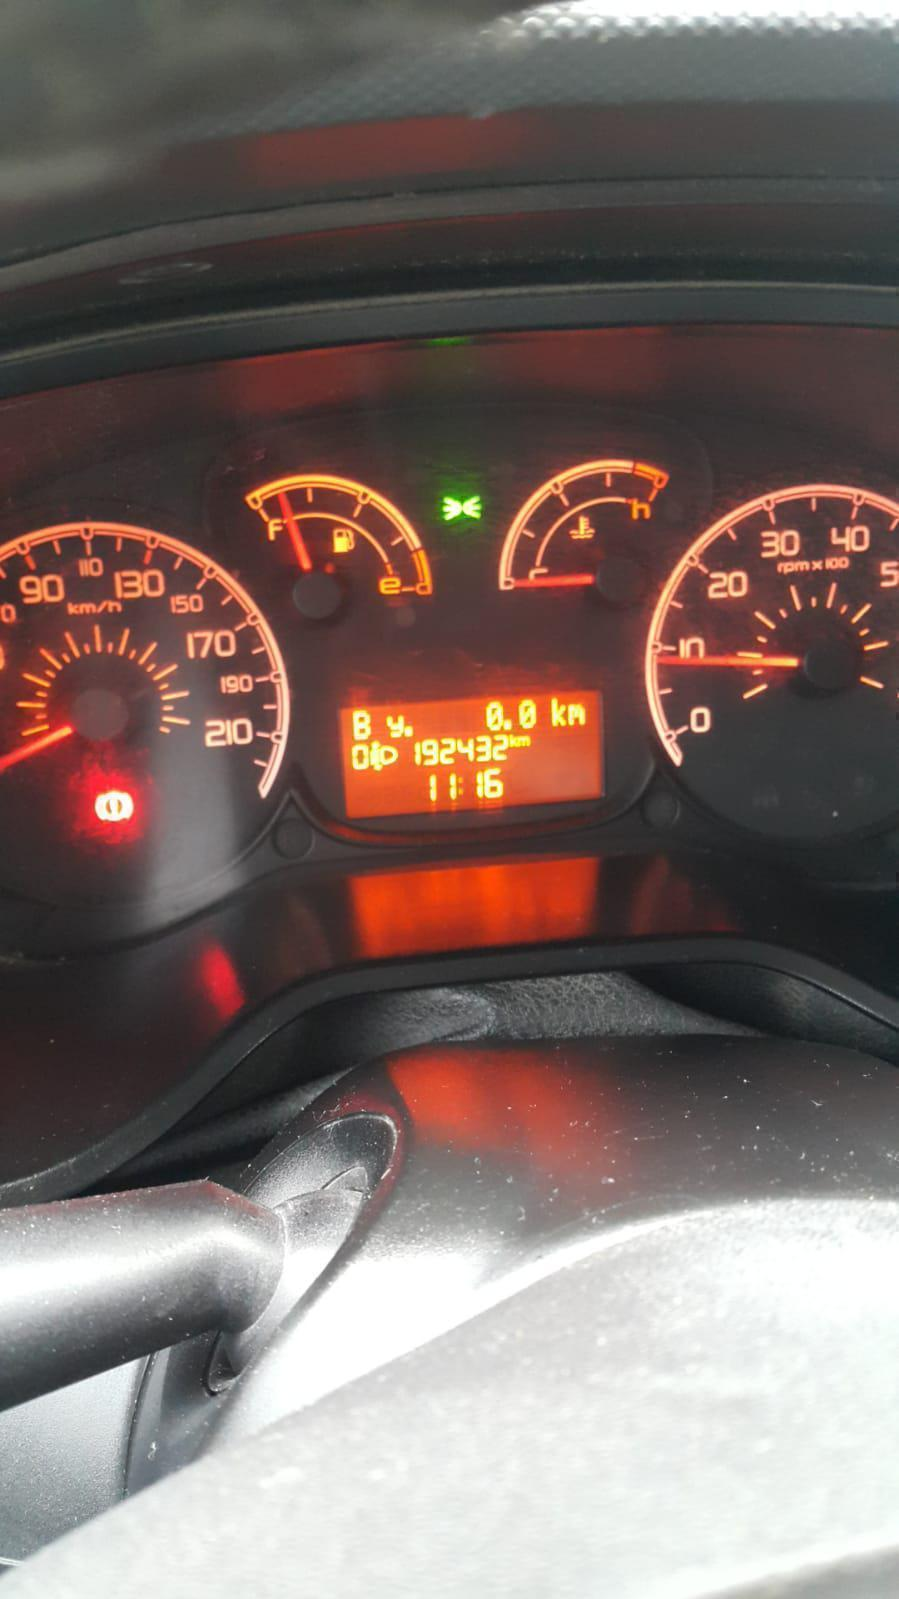,: (404, 723, 414, 739), (503, 718, 514, 731)
0: (483, 698, 503, 731), (518, 697, 536, 731), (351, 743, 369, 770)
1: (426, 772, 438, 805), (447, 769, 457, 803), (412, 739, 422, 769), (475, 768, 482, 800)
2: (439, 737, 456, 765), (493, 733, 508, 761)
3: (475, 734, 491, 762)
4: (457, 736, 474, 762)
6: (483, 767, 504, 800)
9: (423, 737, 438, 765)
X: (351, 709, 372, 742), (550, 696, 568, 728), (385, 714, 405, 739), (568, 702, 587, 726), (457, 775, 467, 798), (517, 735, 531, 746), (509, 733, 517, 747)
odometer: (333, 687, 613, 821)
